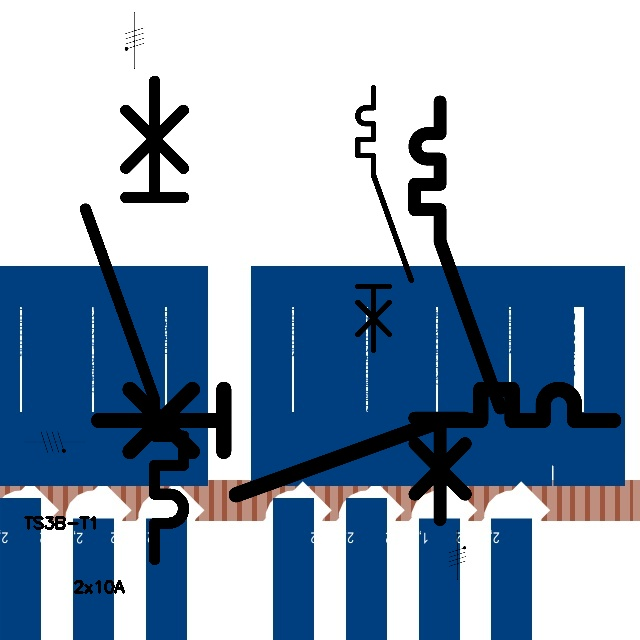interruptor_termomagnetico: (85, 376, 626, 508), (73, 68, 196, 571), (404, 91, 511, 530), (351, 81, 418, 357)
